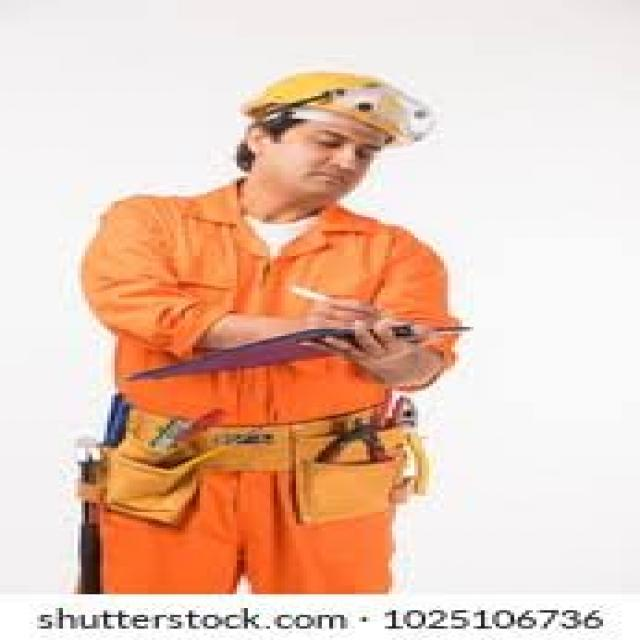Reflective-Jacket: (59, 190, 474, 425)
Safety-Helmet: (210, 60, 448, 148)
